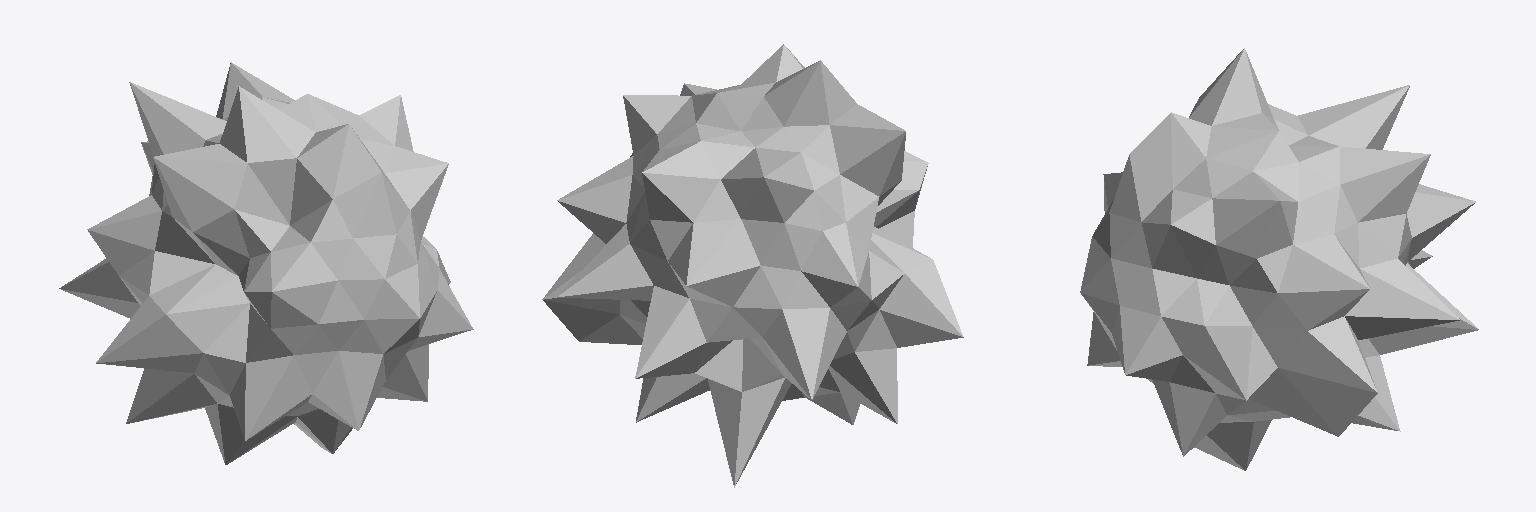
Rendered from BeamBlast.obj.
3 views of the same model, side by side, from view 1: azimuth 30°, elevation 25°; view 2: azimuth 150°, elevation 25°; view 3: azimuth 270°, elevation 25° (orthographic).
Visible parts, largest first — view 1: Icosphere; view 2: Icosphere; view 3: Icosphere.
Part boxes in pixels (bbox=[...]): Icosphere: bbox=[59, 62, 473, 464]; Icosphere: bbox=[542, 44, 963, 487]; Icosphere: bbox=[1080, 48, 1478, 470].
Size of the model in its own units: 4.16 by 4.27 by 4.04.